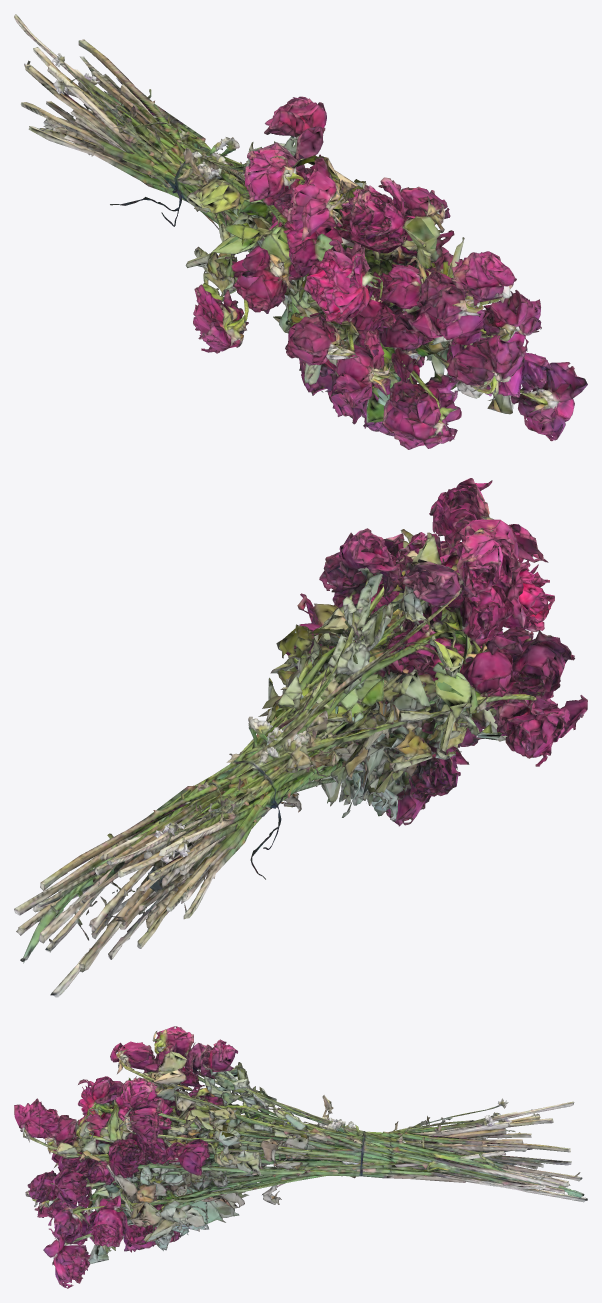
The model's file is bouquet_dried-roses_antalek.glb.
The picture shows the model from 3 angles, top to bottom: view 1: azimuth 30°, elevation 25°; view 2: azimuth 150°, elevation 25°; view 3: azimuth 270°, elevation 25°; orthographic projection. The views are drawn at different scales.
Parts seen in each view (by area): view 1: Object_2; view 2: Object_2; view 3: Object_2.
Boxes of the visible parts, box(x1,y1,x2,y2) form: Object_2: box(14, 14, 587, 449); Object_2: box(14, 478, 587, 997); Object_2: box(14, 1026, 587, 1288).
Size of the model in its own units: 26.13 by 23.36 by 60.51.
1 material, 1 textured.
